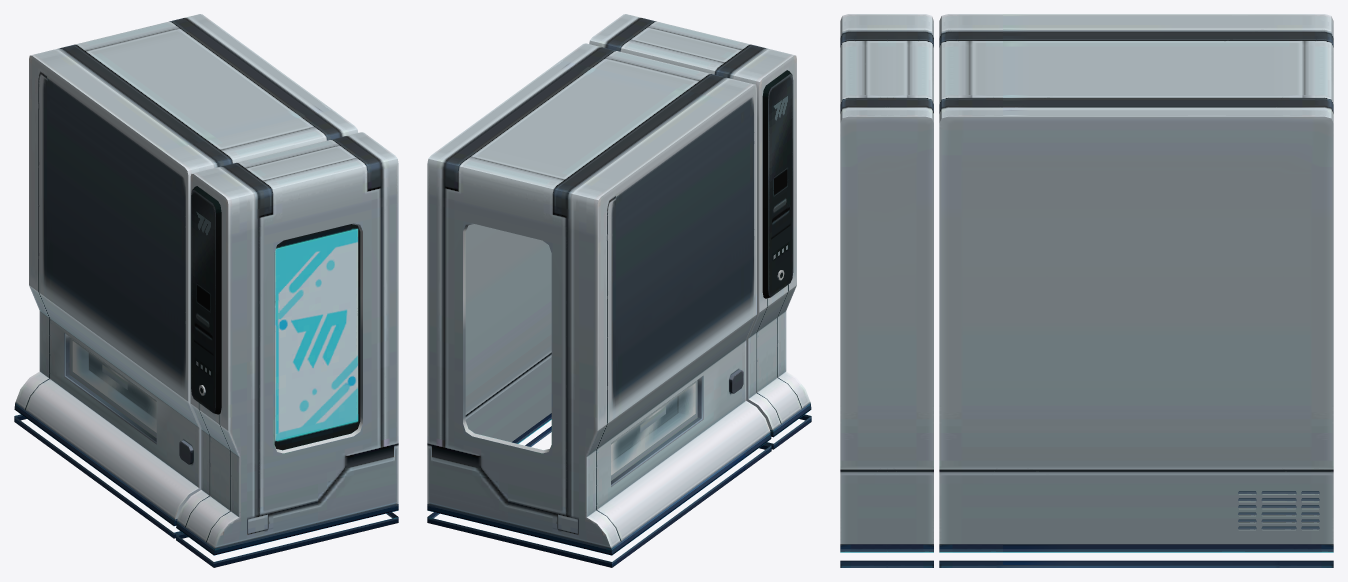
The model's file is my_millenniumlounge_01_vendingmachine_01.glb.
The picture shows the model from 3 angles, left to right: view 1: azimuth 30°, elevation 25°; view 2: azimuth 150°, elevation 25°; view 3: azimuth 270°, elevation 25°; orthographic projection. The views are drawn at different scales.
Visible parts, largest first — view 1: my_millenniumlounge_01_vendingmachine_01; view 2: my_millenniumlounge_01_vendingmachine_01; view 3: my_millenniumlounge_01_vendingmachine_01.
Boxes of the visible parts, x1,y1,x2,y2 form: my_millenniumlounge_01_vendingmachine_01: (14,14,398,567); my_millenniumlounge_01_vendingmachine_01: (427,14,811,567); my_millenniumlounge_01_vendingmachine_01: (840,14,1333,567).
Bounding box in the file's own units: 0.00728 × 0.0137 × 0.0136.
3 materials, 3 textured.
